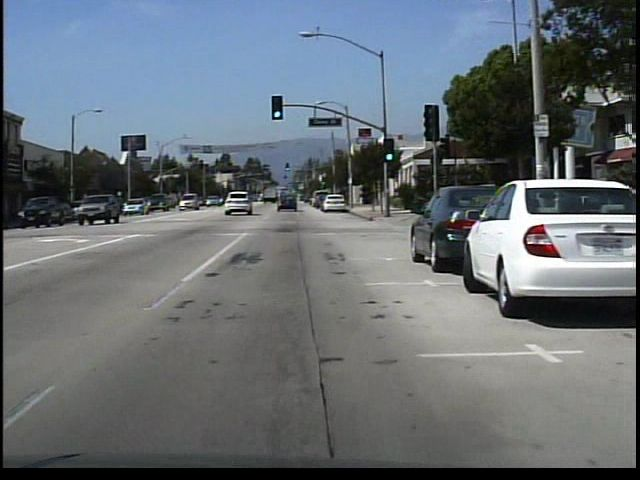car: (473, 172, 639, 320), (413, 180, 485, 265), (72, 192, 120, 228), (18, 190, 66, 226), (226, 190, 254, 216), (321, 194, 355, 214), (274, 189, 297, 212), (176, 191, 201, 211), (123, 196, 148, 216)
strada: (12, 222, 589, 458)
